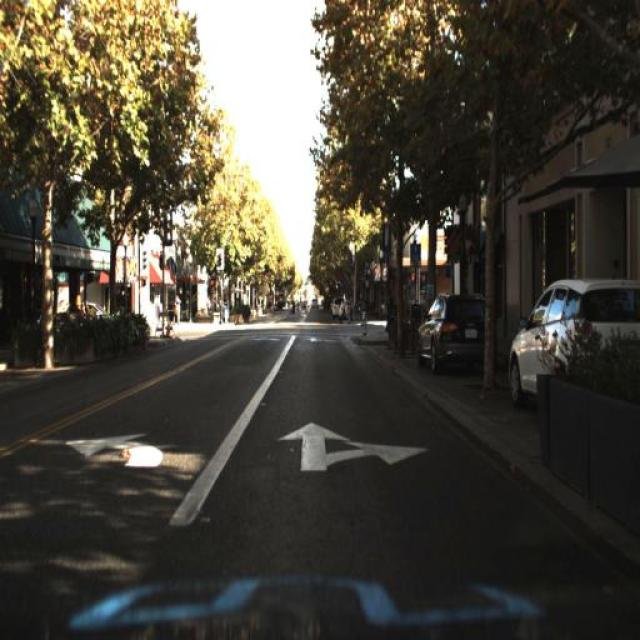car: (508, 272, 640, 422), (413, 288, 489, 378)
trafficLight: (336, 281, 350, 337), (173, 287, 186, 331), (168, 298, 181, 334)
trafficLight-RedLeft: (346, 242, 359, 274), (213, 247, 224, 273)
